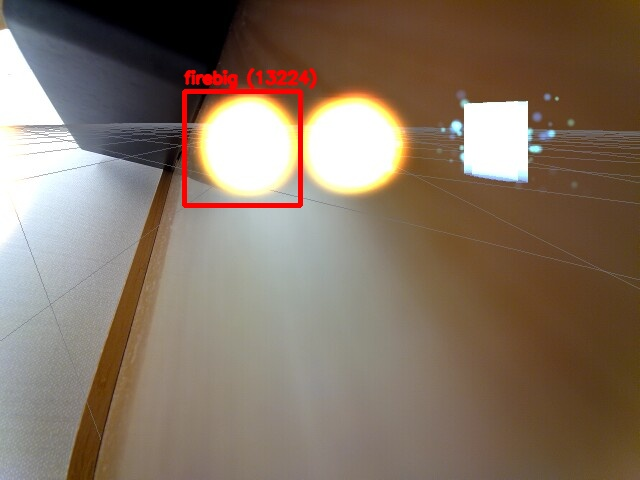firebig: (184, 91, 300, 205)
